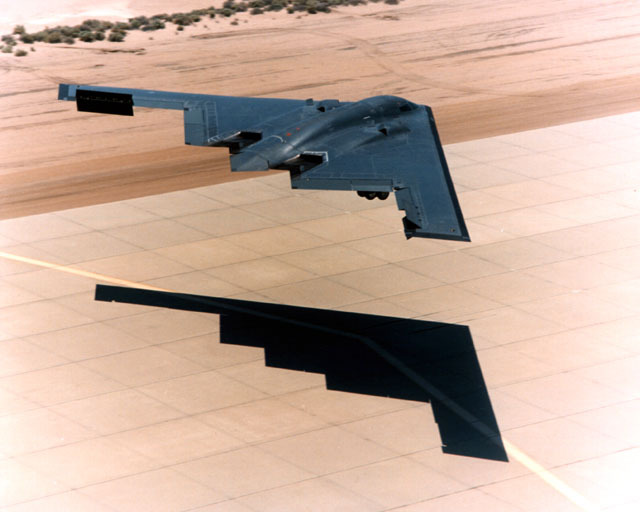B2: (57, 83, 472, 243)
